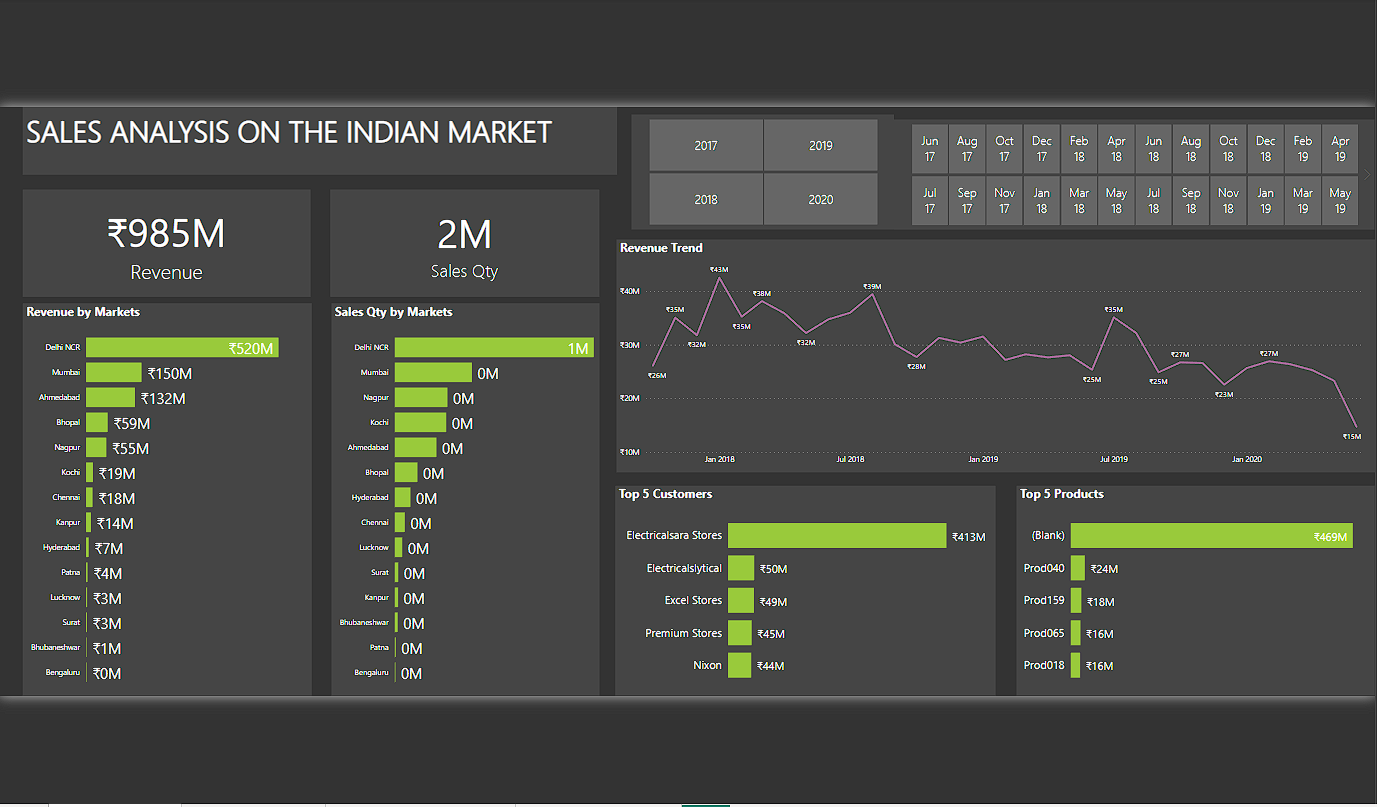

This screenshot's page, from the dashboard's own definition file:
{"tool":"powerbi","page":{"name":"Key Insights","canvas":[2000,856],"ordinal":0},"visuals":[{"type":"card","fields":{"Values":["BaseMeasures (2).Revenue"]},"box":[34.5,120,418.2,156.4],"z":0},{"type":"card","fields":{"Values":["BaseMeasures (2).Sales Qty"]},"box":[481.8,120,390.9,156.4],"z":1000},{"type":"barChart","title":"Revenue by Markets","fields":{"Y":["BaseMeasures (2).Revenue"],"Category":["sales markets.markets_name"]},"box":[33.7,285.3,419.9,570.5],"z":2000},{"type":"barChart","title":"Sales Qty by Markets","fields":{"Y":["BaseMeasures (2).Sales Qty"],"Category":["sales markets.markets_name"]},"box":[484,285.3,389.4,570.5],"z":3000},{"type":"slicer","fields":{"Values":["sales date.year"]},"box":[920,10.9,381.8,167.3],"z":4000},{"type":"slicer","fields":{"Values":["sales date.cy_date"]},"box":[1301.3,17.6,698.7,160.3],"z":5000},{"type":"barChart","title":"Top 5 Customers","fields":{"Y":["BaseMeasures (2).Revenue"],"Category":["sales customers.custmer_name"]},"box":[895.8,551.3,552.9,304.5],"z":6000},{"type":"barChart","title":"Top 5 Products","fields":{"Y":["BaseMeasures (2).Revenue"],"Category":["sales products.product_code"]},"box":[1479.2,551.3,520.8,304.5],"z":7000},{"type":"lineChart","title":"Revenue Trend","fields":{"Y":["BaseMeasures (2).Revenue"],"Category":["sales date.cy_date"]},"box":[897.4,192.3,1102.6,338.1],"z":8000},{"type":"textbox","box":[34.5,0,863.6,98.2],"z":9000}]}

Visuals, with their boxes on the page's 2000x856 design canvas (x1, y1, x2, y2). These are canvas units, not pixel positions in the 1377x807 screenshot, which may show the page scaled, cropped or inside an application window:
card - BaseMeasures (2).Revenue: [34,120,453,276]
card - BaseMeasures (2).Sales Qty: [482,120,873,276]
"Revenue by Markets" barChart: [34,285,454,856]
"Sales Qty by Markets" barChart: [484,285,873,856]
slicer - sales date.year: [920,11,1302,178]
slicer - sales date.cy_date: [1301,18,2000,178]
"Top 5 Customers" barChart: [896,551,1449,856]
"Top 5 Products" barChart: [1479,551,2000,856]
"Revenue Trend" lineChart: [897,192,2000,530]
textbox: [34,0,898,98]
